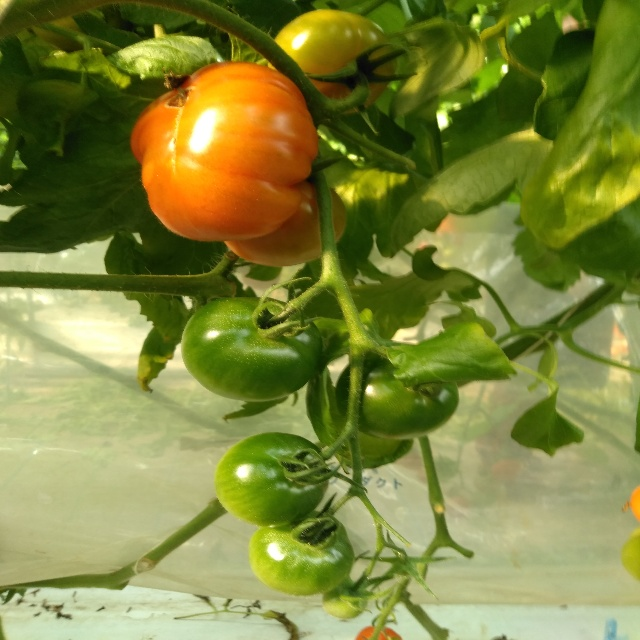l_fully_ripened: (131, 60, 319, 241)
l_green: (181, 297, 324, 402), (337, 343, 459, 440), (214, 432, 330, 527), (249, 511, 354, 596)
l_half_ripened: (268, 9, 398, 115), (224, 173, 346, 268)
